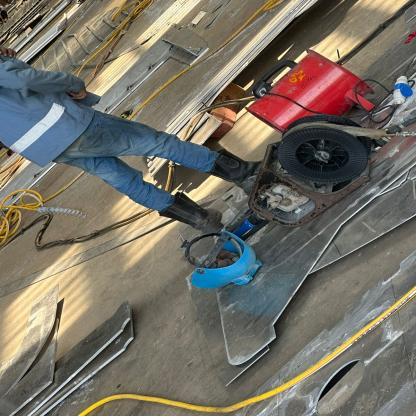bota: (164, 190, 226, 235), (211, 149, 265, 189)
